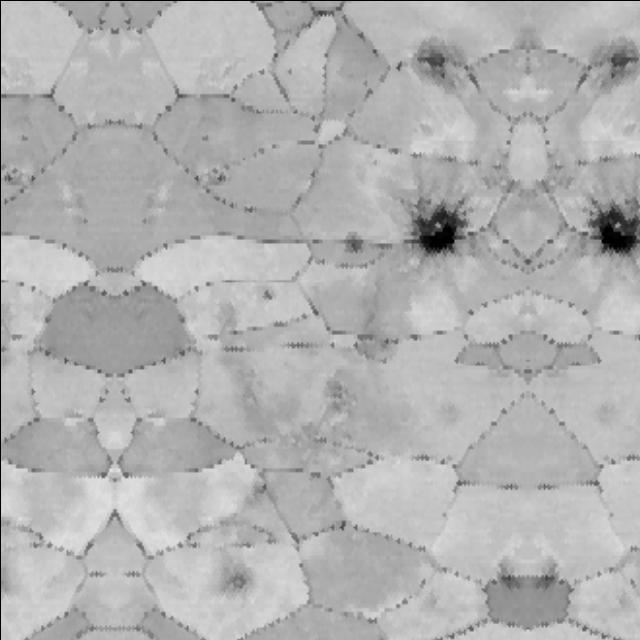good_void: (397, 197, 467, 263), (585, 197, 640, 263), (404, 36, 458, 86), (208, 552, 261, 601), (314, 366, 360, 417), (594, 36, 640, 86), (346, 326, 392, 367), (491, 556, 523, 594), (529, 556, 561, 594), (200, 159, 235, 188), (0, 554, 18, 601), (0, 160, 26, 188), (340, 231, 363, 255), (256, 282, 276, 307), (392, 56, 402, 74), (198, 131, 210, 145), (16, 131, 28, 145), (280, 66, 292, 79)
